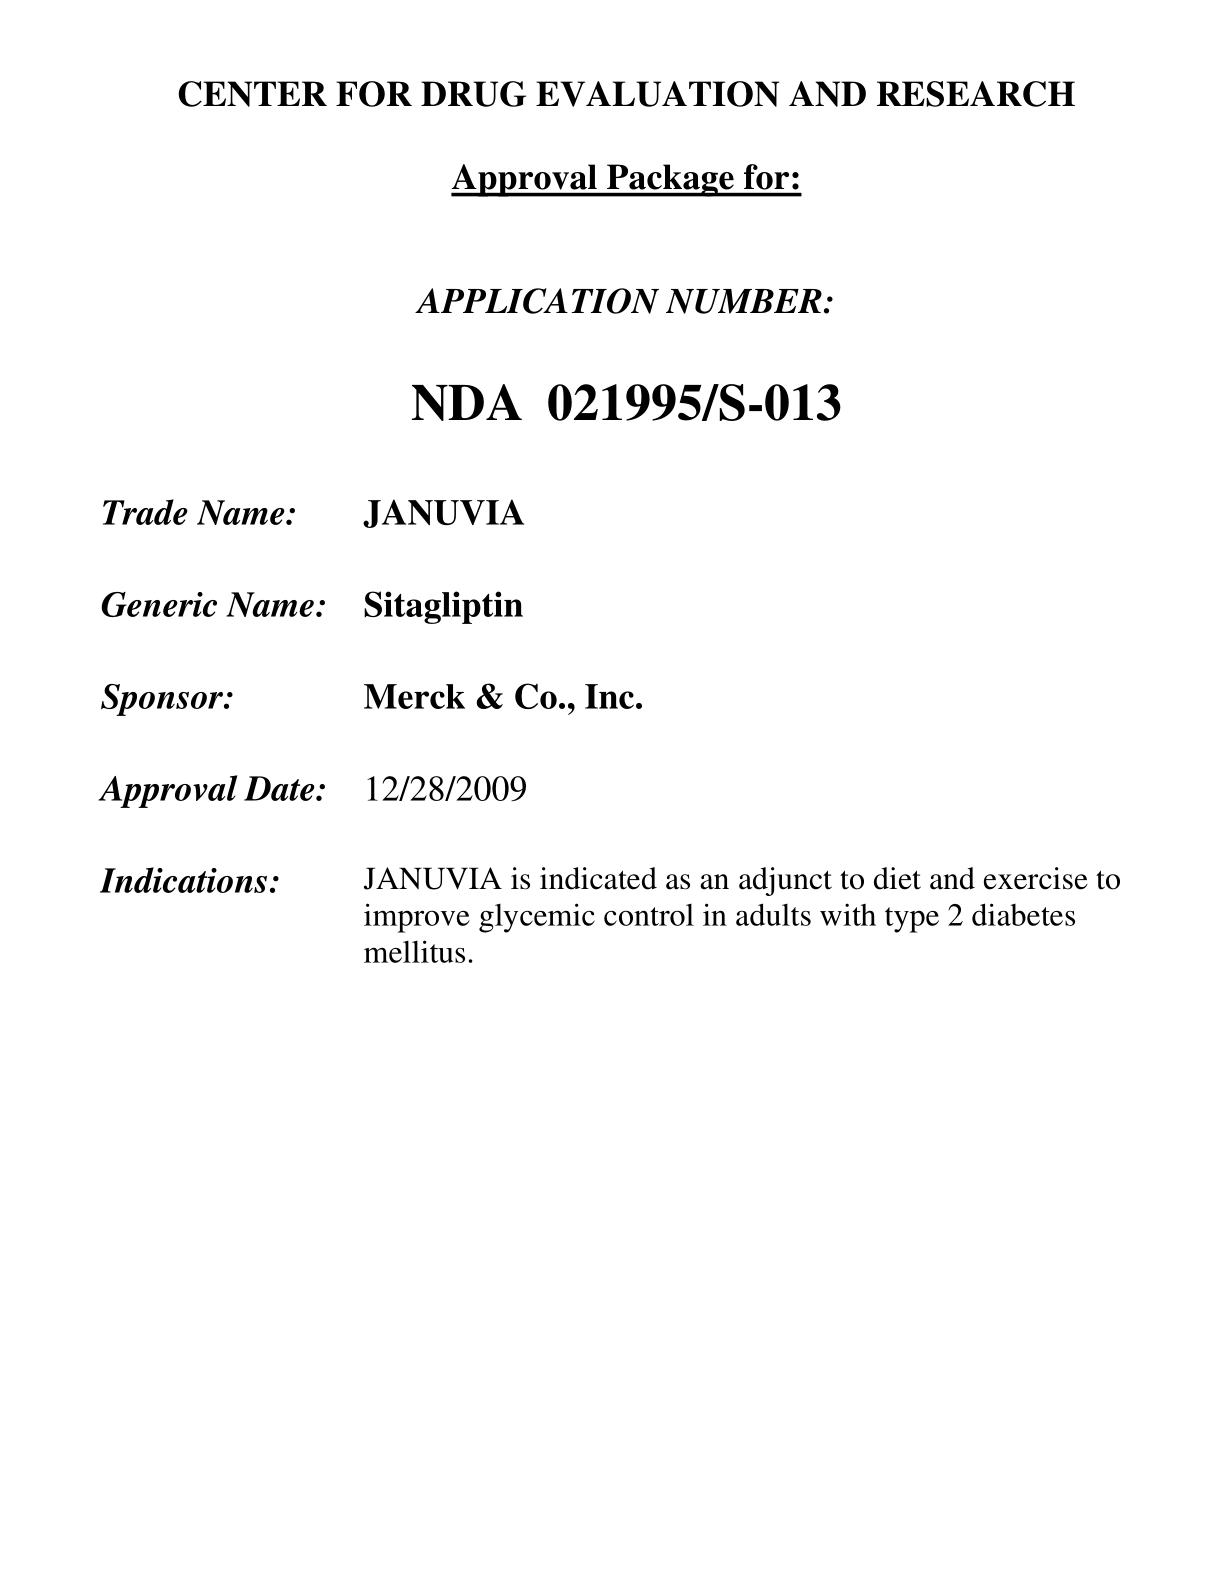nolines: (100, 490, 1133, 972)
